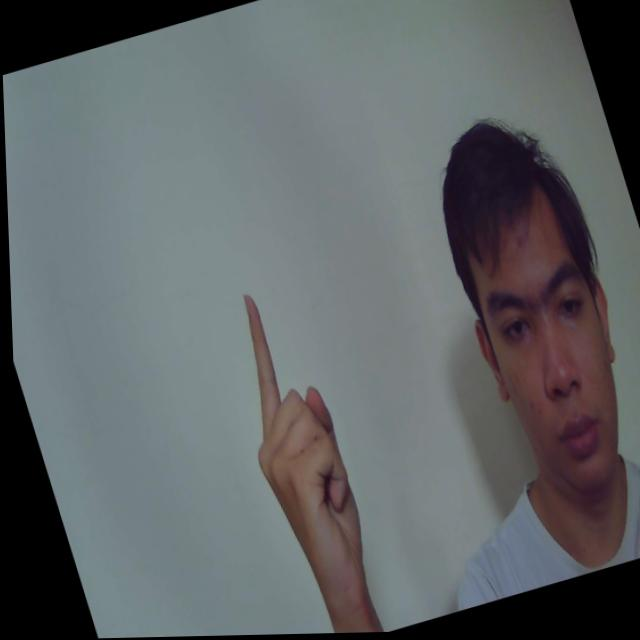D: (208, 279, 385, 629)
